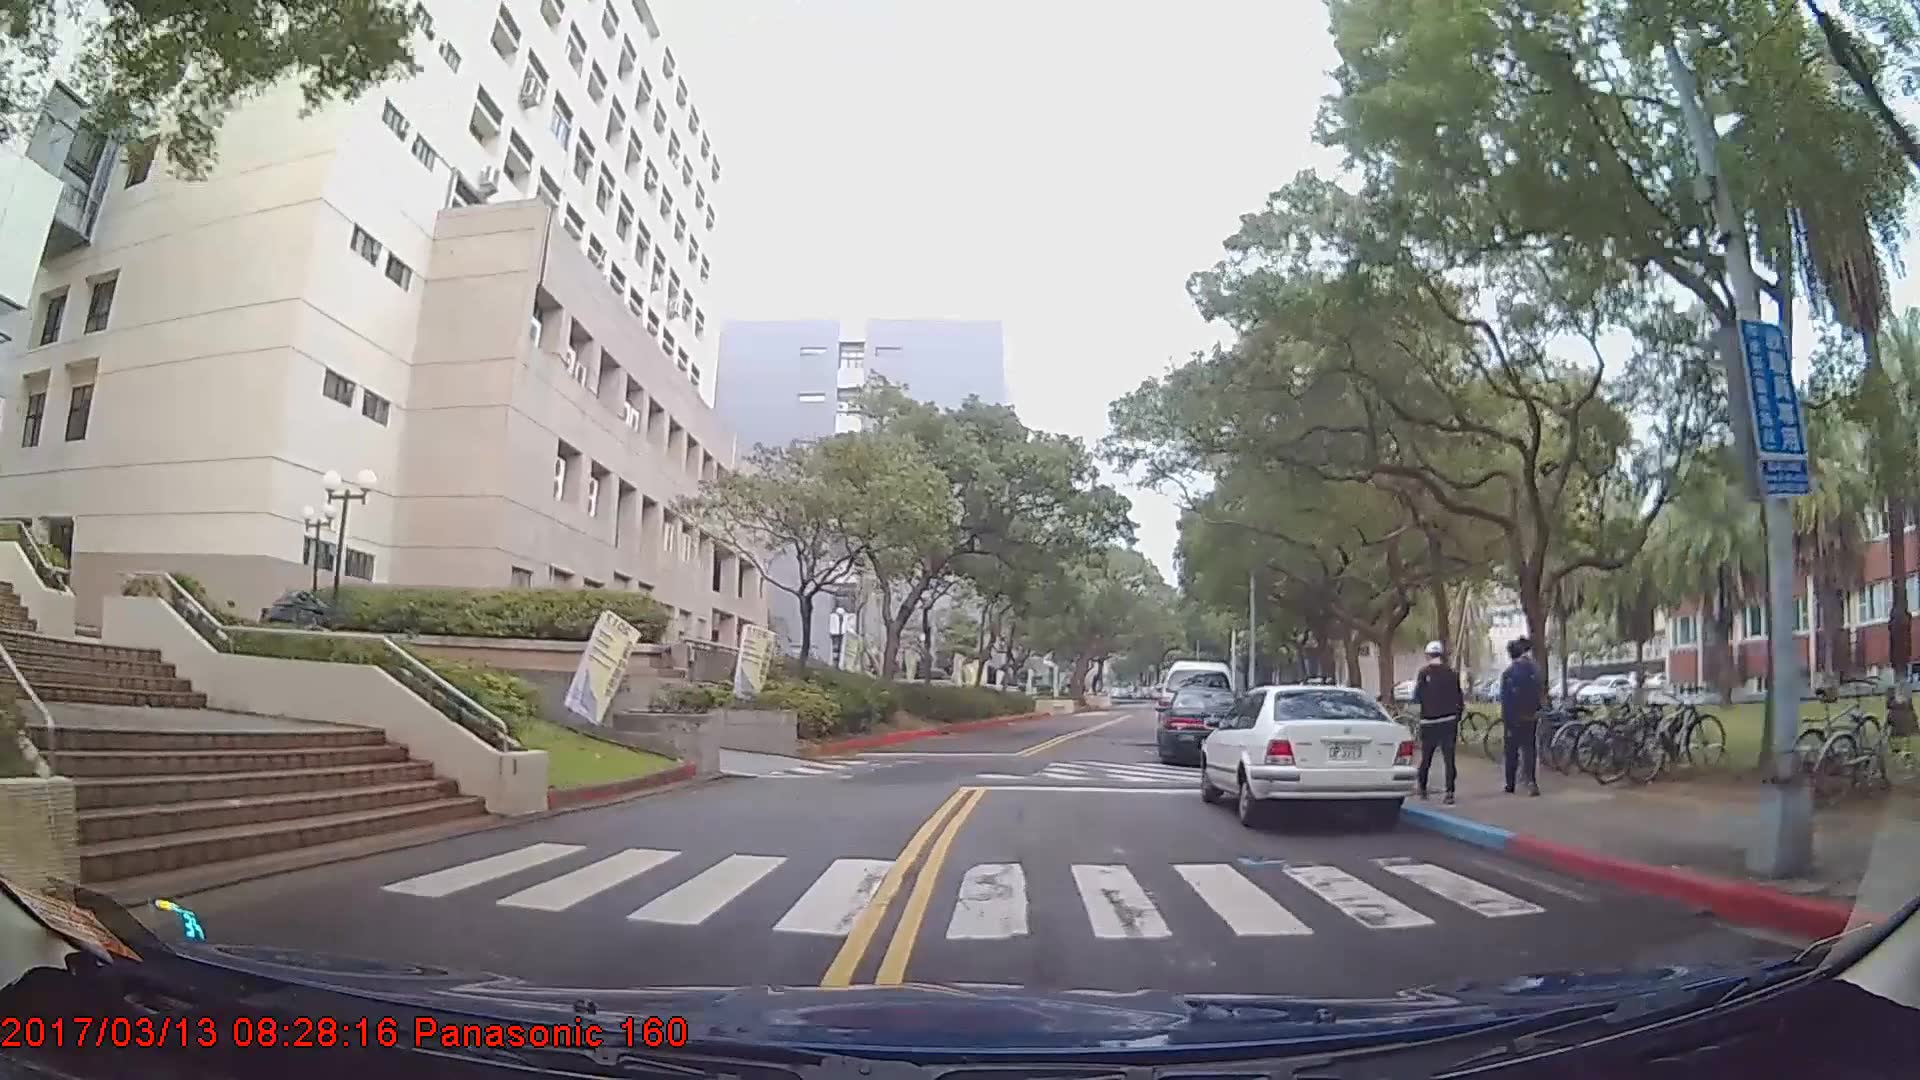pedestrian: (1414, 642, 1468, 804), (1495, 639, 1549, 800)
vehicle: (1199, 684, 1417, 828), (1158, 686, 1253, 765)
